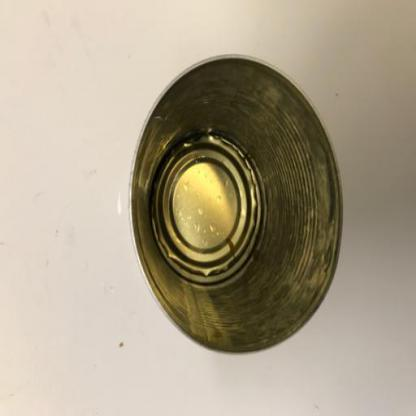METAL: (128, 53, 342, 354)
